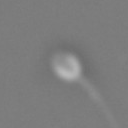normal: (78, 75, 115, 127)
